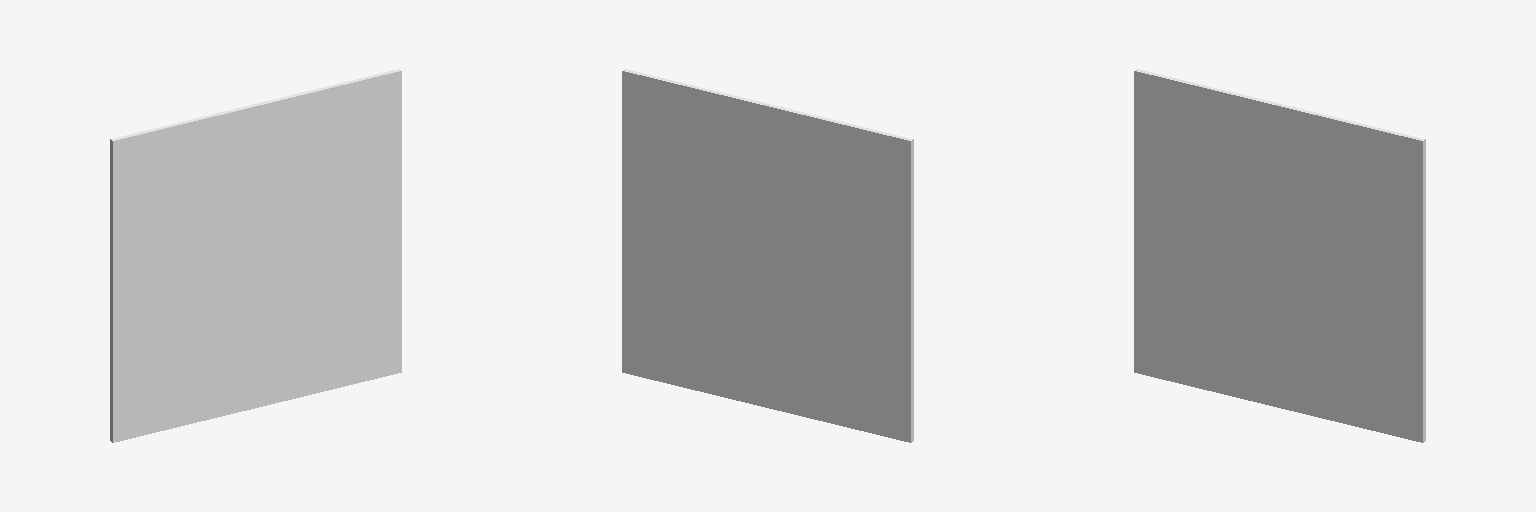
Rendered from Fish-1.obj.
3 renders of one model, left to right at view 1: azimuth 30°, elevation 25°; view 2: azimuth 150°, elevation 25°; view 3: azimuth 330°, elevation 25°, orthographic.
Parts seen in each view (by area): view 1: object 1; view 2: object 1; view 3: object 1.
Part boxes in pixels (x1,y1,x2,y2): object 1: (110, 69, 401, 442); object 1: (622, 69, 913, 442); object 1: (1134, 69, 1425, 442).
Bounding box in the file's own units: 6.4 × 6.4 × 0.1.